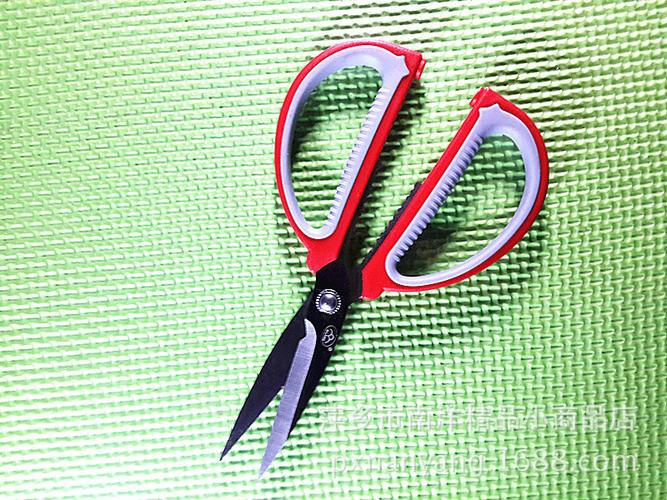scissor: (216, 19, 550, 475)
